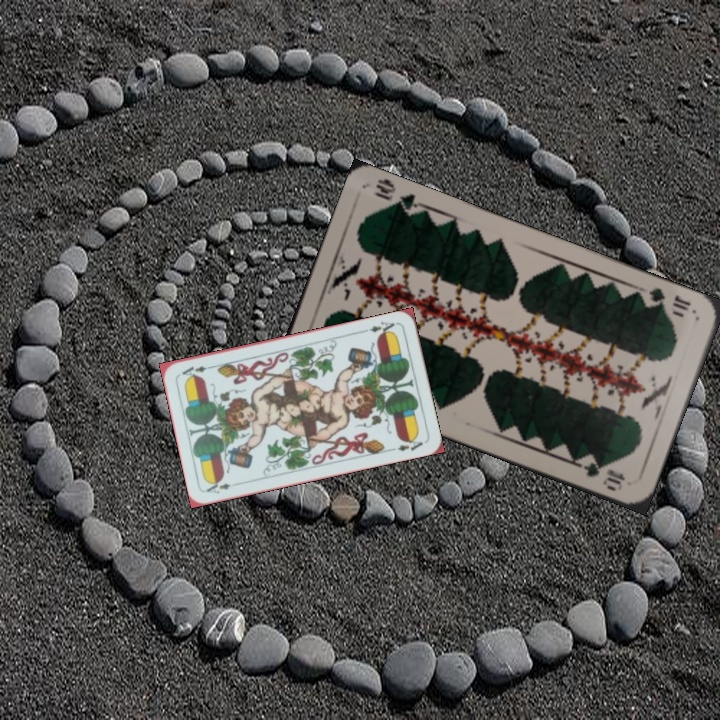EA: (365, 317, 400, 338), (202, 477, 233, 496)
G10: (644, 283, 693, 315)
